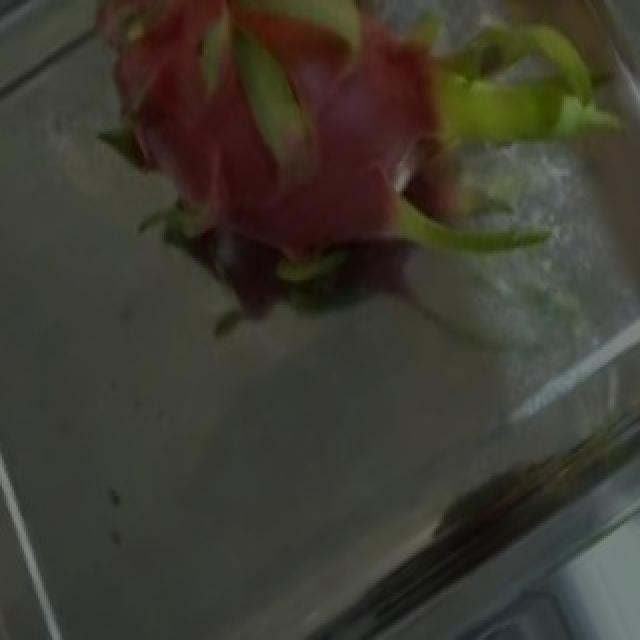fruit: (176, 0, 606, 412)
